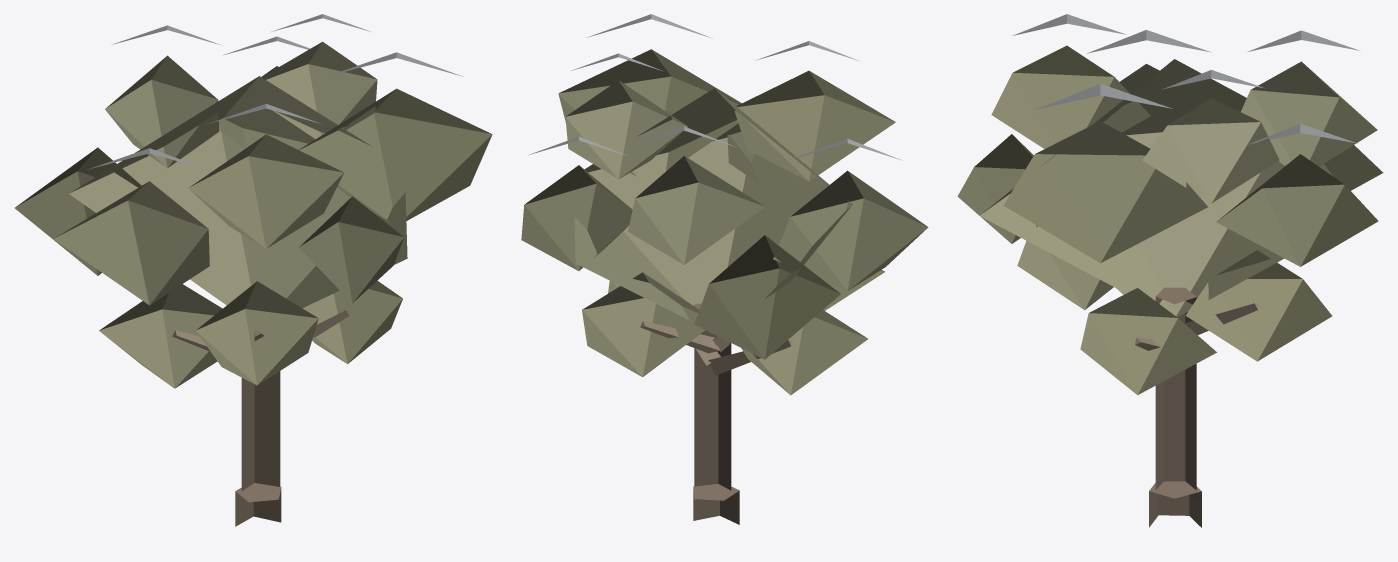
File: tree.cold.willow__winter.glb
3 views of the same model, side by side, from view 1: azimuth 30°, elevation 25°; view 2: azimuth 150°, elevation 25°; view 3: azimuth 270°, elevation 25° (orthographic). The views are drawn at different scales.
Visible parts, largest first — view 1: tree.cold.willow__winter; view 2: tree.cold.willow__winter; view 3: tree.cold.willow__winter.
Boxes of the visible parts, x1=… form: tree.cold.willow__winter: x1=15, y1=14, x2=492, y2=526; tree.cold.willow__winter: x1=521, y1=14, x2=928, y2=524; tree.cold.willow__winter: x1=957, y1=14, x2=1383, y2=527.
Size of the model in its own units: 4.58 by 5.42 by 4.22.
